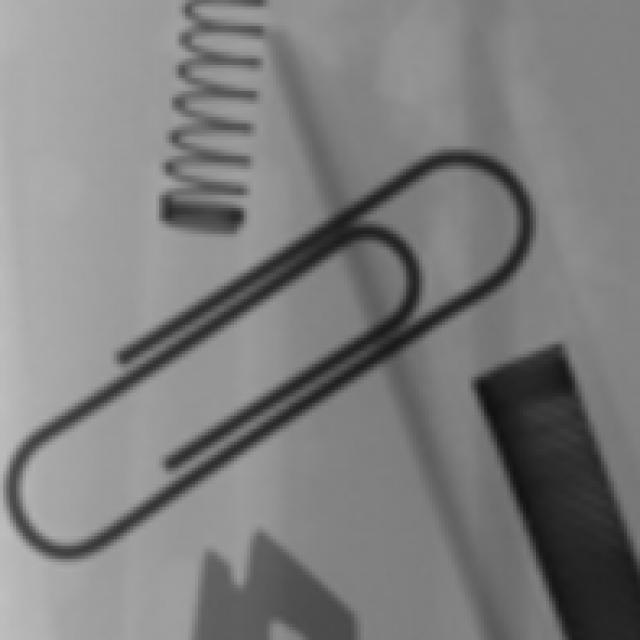GUN: (458, 345, 640, 634)
